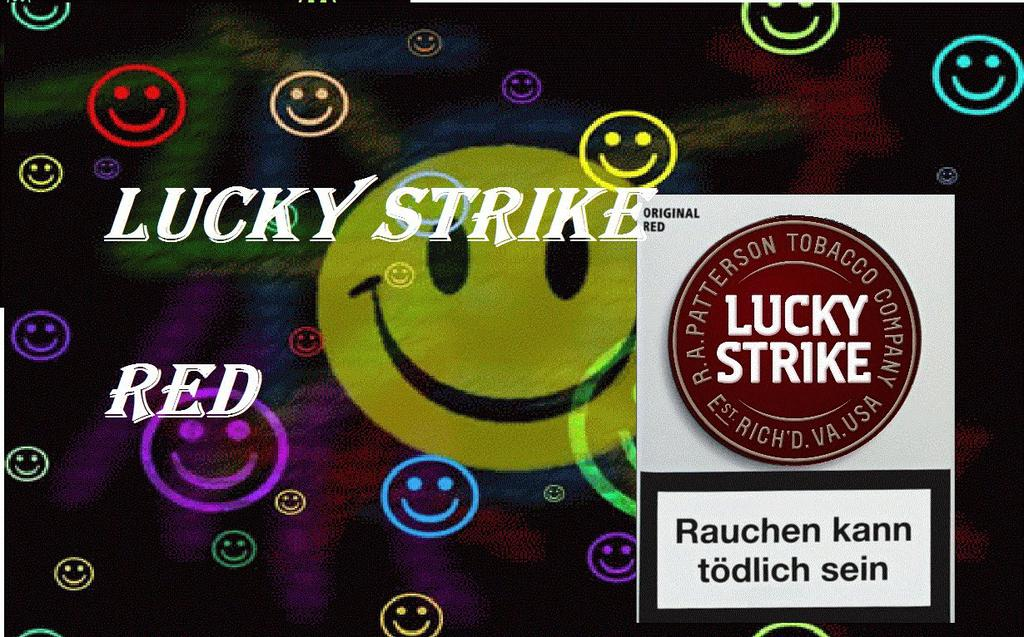lucky_strike_red: (638, 198, 955, 619)
